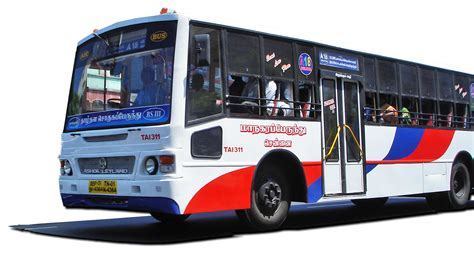bus: (64, 23, 474, 227)
